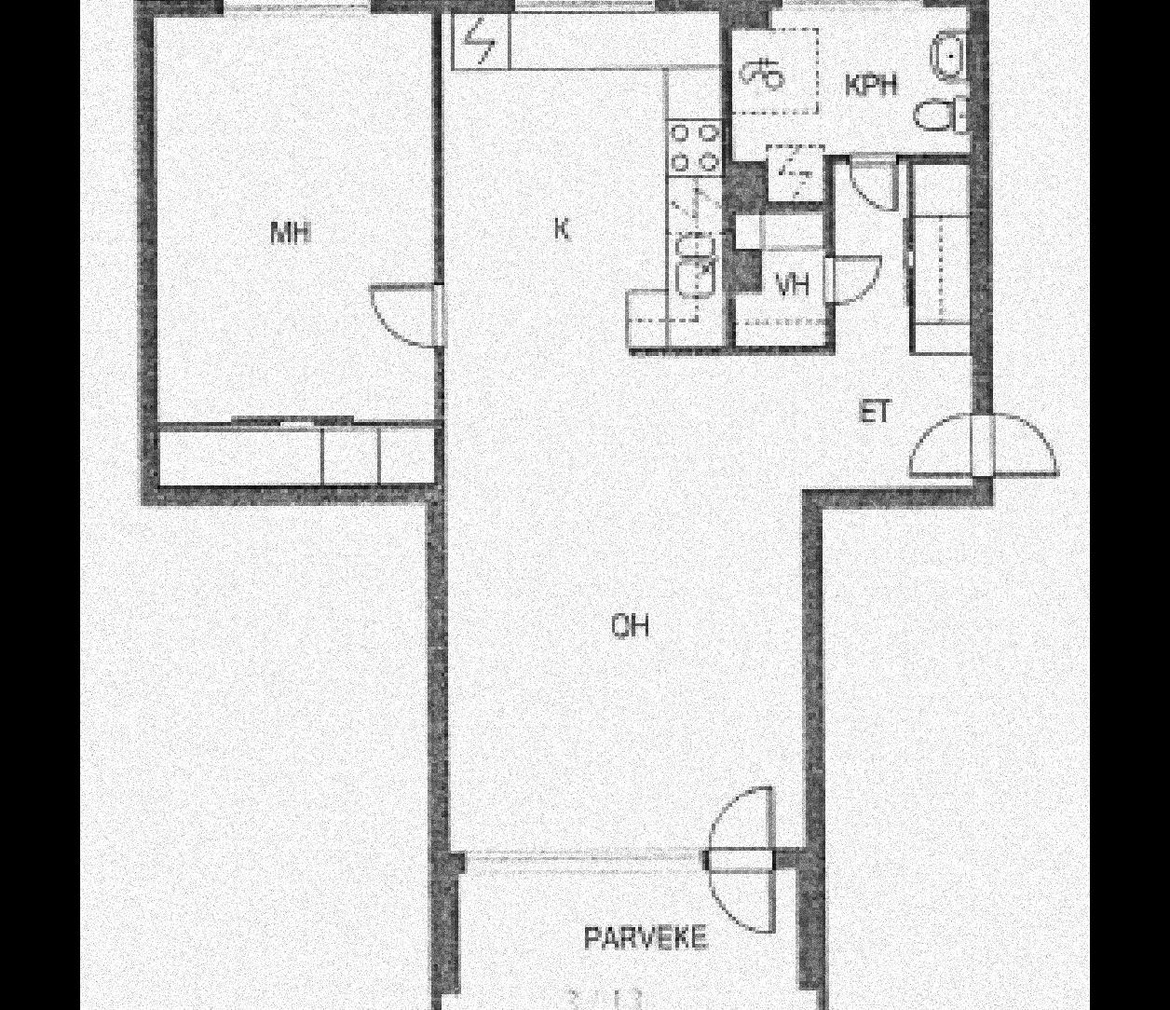door: (703, 785, 778, 936), (904, 410, 1064, 479), (369, 284, 443, 352), (822, 252, 888, 306), (849, 153, 904, 212)
window: (463, 844, 706, 876), (222, 0, 366, 17), (780, 0, 922, 12), (514, 0, 652, 11)
zone: (444, 1, 971, 852), (152, 9, 435, 484), (438, 866, 814, 1010), (730, 1, 973, 198), (735, 210, 825, 347)
